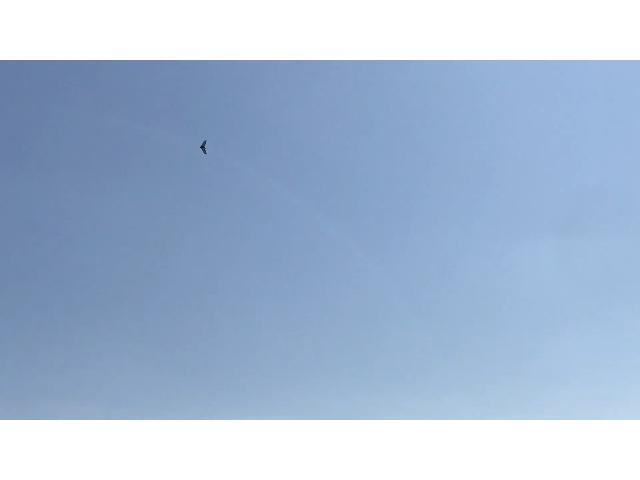Anti-Drone: (190, 132, 228, 164)
